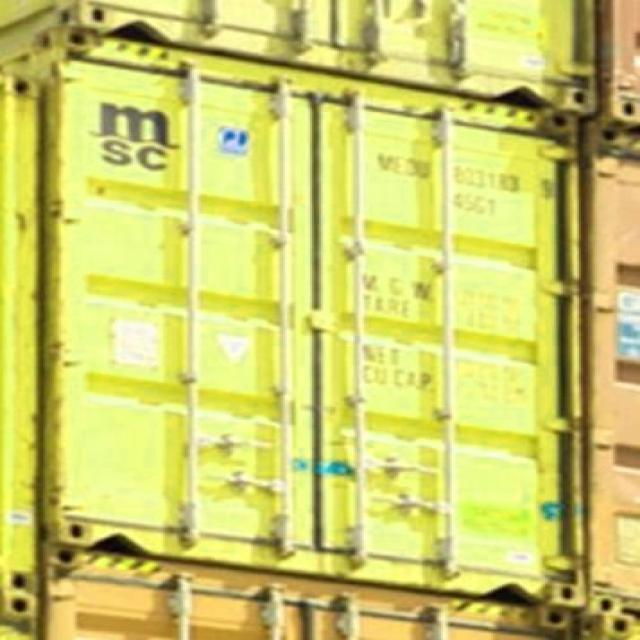ISO: (434, 190, 502, 226)
container_number: (363, 144, 571, 203)
